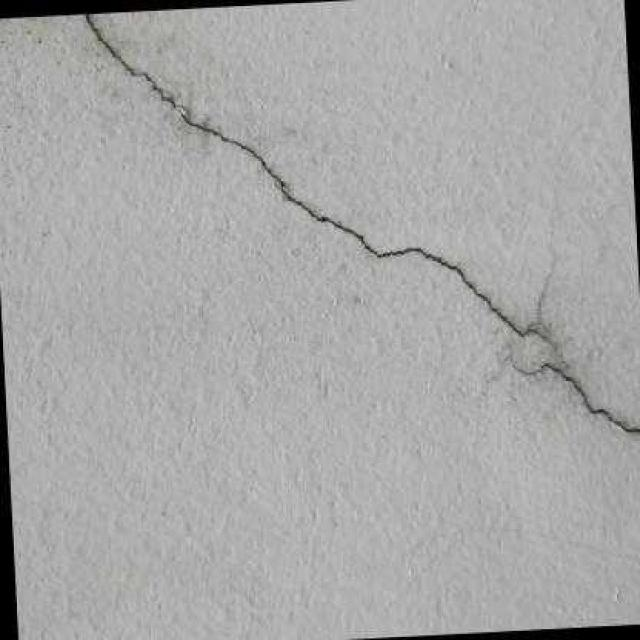D00: (75, 12, 545, 344), (539, 357, 640, 441)
